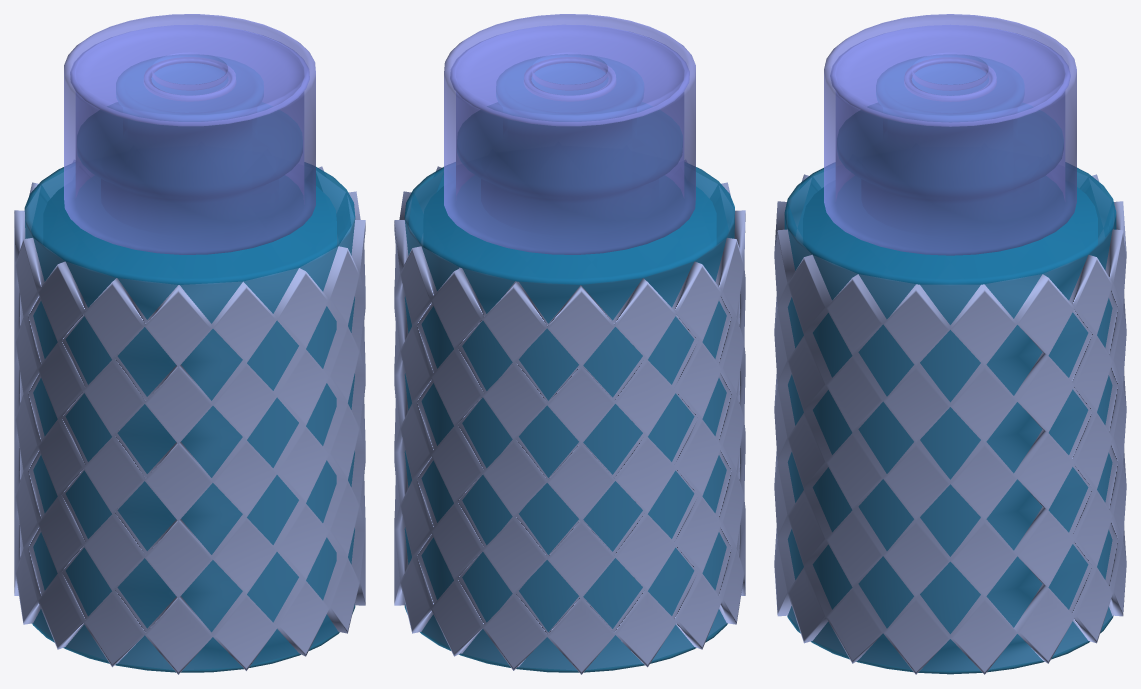
Rendered from jar-transformed.glb.
The picture shows the model from 3 angles, left to right: view 1: azimuth 30°, elevation 25°; view 2: azimuth 150°, elevation 25°; view 3: azimuth 270°, elevation 25°; orthographic projection.
Visible parts, largest first — view 1: Circle.001_romb_0, Circle.001_glass_0, Circle.001_Material.002_0; view 2: Circle.001_romb_0, Circle.001_glass_0, Circle.001_Material.002_0; view 3: Circle.001_romb_0, Circle.001_glass_0, Circle.001_Material.002_0.
Boxes of the visible parts, x1,y1,x2,y2 form: Circle.001_romb_0: (14,160,365,674); Circle.001_glass_0: (24,55,355,672); Circle.001_Material.002_0: (64,14,315,254); Circle.001_romb_0: (394,160,745,674); Circle.001_glass_0: (404,54,734,672); Circle.001_Material.002_0: (444,14,695,254); Circle.001_romb_0: (774,172,1126,674); Circle.001_glass_0: (784,55,1116,674); Circle.001_Material.002_0: (824,14,1076,255).
Bounding box in the file's own units: 0.4711 × 0.795 × 0.4711.
